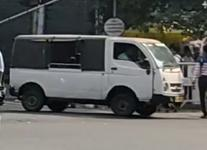Auto: (10, 32, 184, 115)
